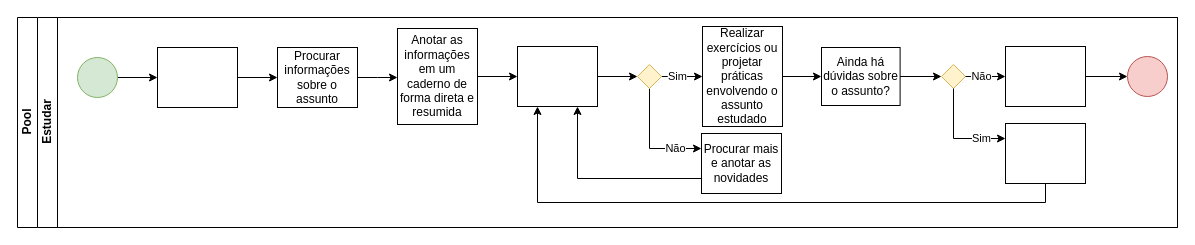
This 1195x245 diagram has some shape labels left out. Each missing label, with the centre of its shape:
"Foi possível compreender o assunto?" goes at point 557,76.
"Identificar o que será estudado" goes at point 197,77.
"Pesquisar mais e anotar as novidades" goes at point 1045,153.
"Terminar o estudo" goes at point 1045,76.
